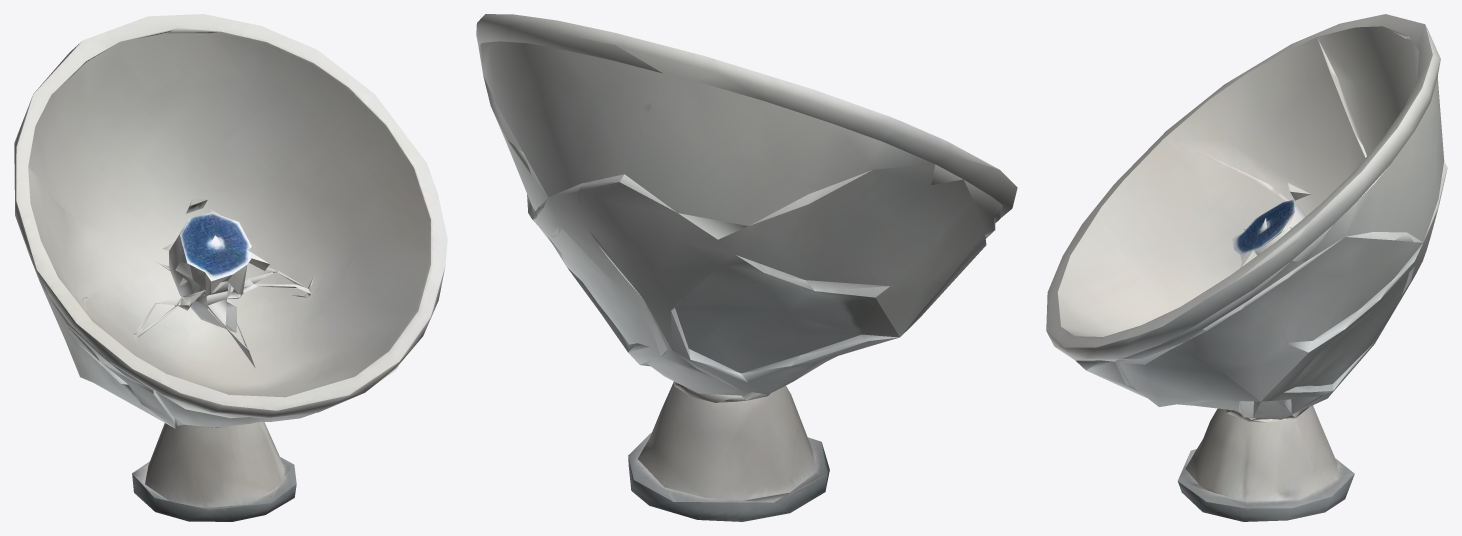
The model's file is satelliteDish.glb.
3 renders of one model, left to right at view 1: azimuth 30°, elevation 25°; view 2: azimuth 150°, elevation 25°; view 3: azimuth 270°, elevation 25°, orthographic. The views are drawn at different scales.
Parts seen in each view (by area): view 1: model; view 2: model; view 3: model.
Part boxes in pixels (left/top/right/bottom): model: left=14, top=14, right=447, bottom=521; model: left=476, top=14, right=1017, bottom=521; model: left=1046, top=14, right=1447, bottom=521.
Bounding box in the file's own units: 1.9 × 1.9 × 1.58.
Materials: 1 (1 with a texture image).
